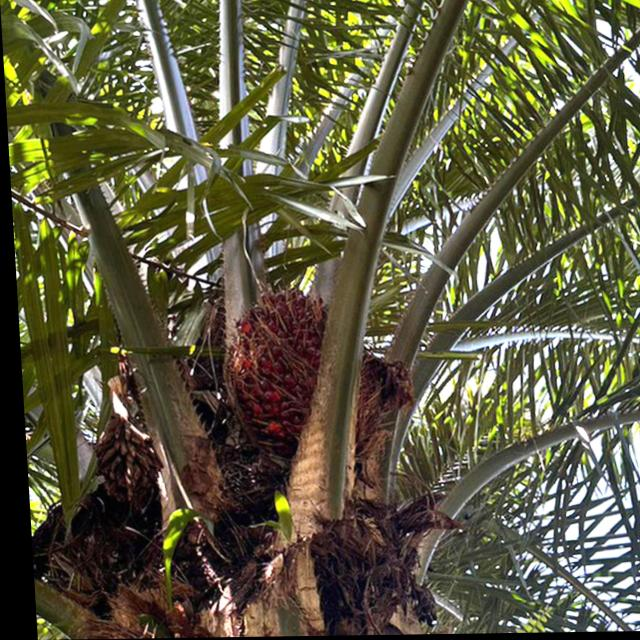ripe: (217, 278, 388, 454)
